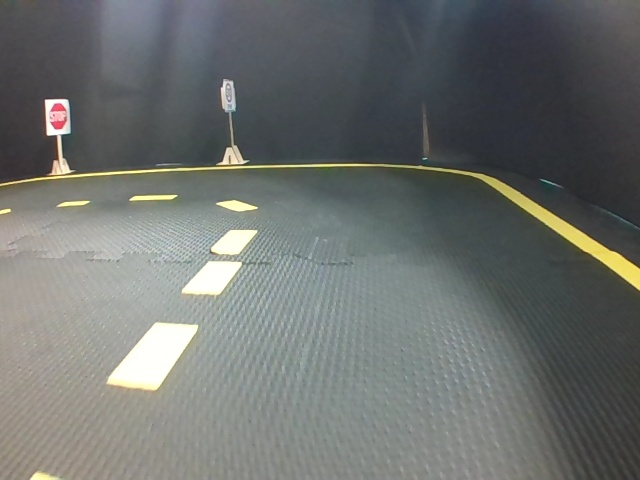30: (223, 80, 234, 108)
stop: (45, 98, 69, 133)
